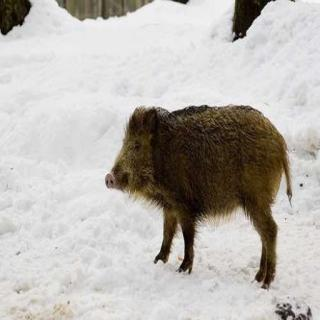Pig: (88, 96, 306, 281)
